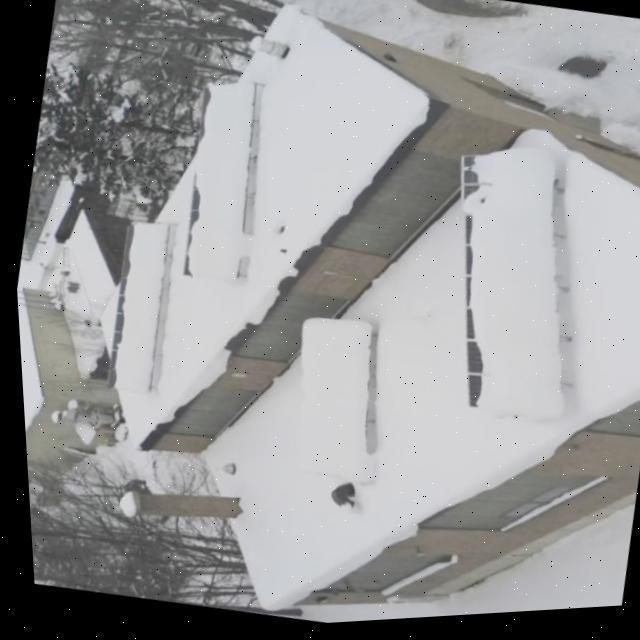Anomaly Solar Panel: (460, 156, 554, 424), (173, 77, 263, 289), (279, 321, 379, 486), (102, 220, 169, 395)
Snow: (458, 152, 556, 425), (276, 317, 384, 486), (175, 79, 262, 285), (102, 219, 169, 395)
